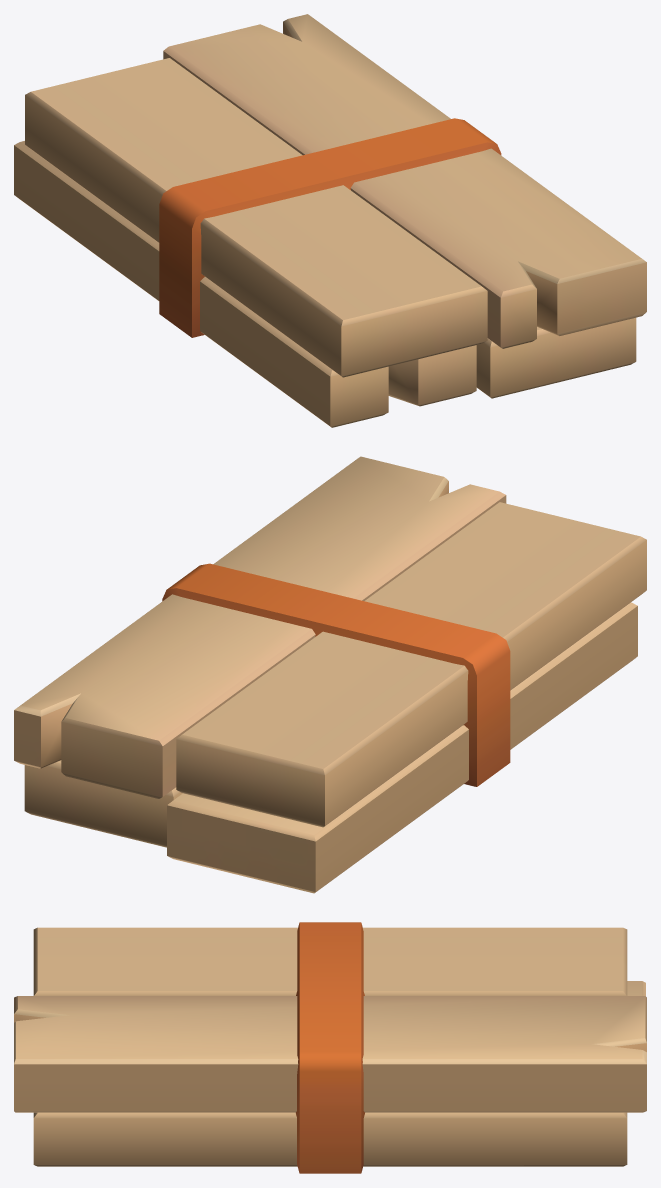
Rendered from wood-planks-stack-small.glb.
3 renders of one model, top to bottom at view 1: azimuth 30°, elevation 25°; view 2: azimuth 150°, elevation 25°; view 3: azimuth 270°, elevation 25°, orthographic. The views are drawn at different scales.
Visible parts, largest first — view 1: Wood_Planks_Stack_Small; view 2: Wood_Planks_Stack_Small; view 3: Wood_Planks_Stack_Small.
Boxes of the visible parts, <box> form: Wood_Planks_Stack_Small: <box>14,14,646,427</box>; Wood_Planks_Stack_Small: <box>14,456,646,893</box>; Wood_Planks_Stack_Small: <box>14,922,646,1173</box>.
Size of the model in its own units: 0.8461 by 0.3232 by 1.6.
Materials: 1 (1 with a texture image).
